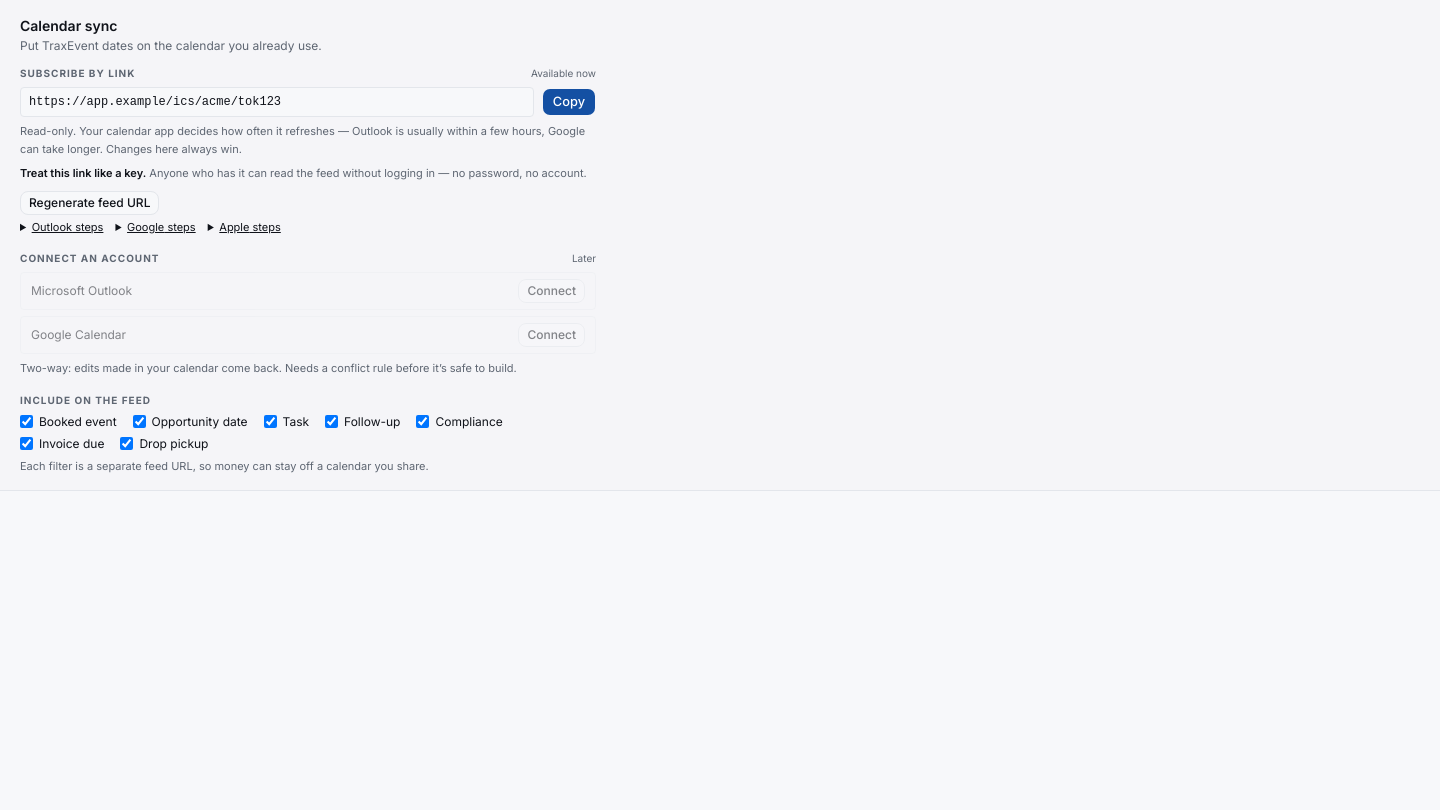
SubscribePanel › regenerate feed URL › confirming rotates the token and shows the URL that now works
Click the button "Regenerate feed URL" at x=90, y=203, box [20,191,159,215]
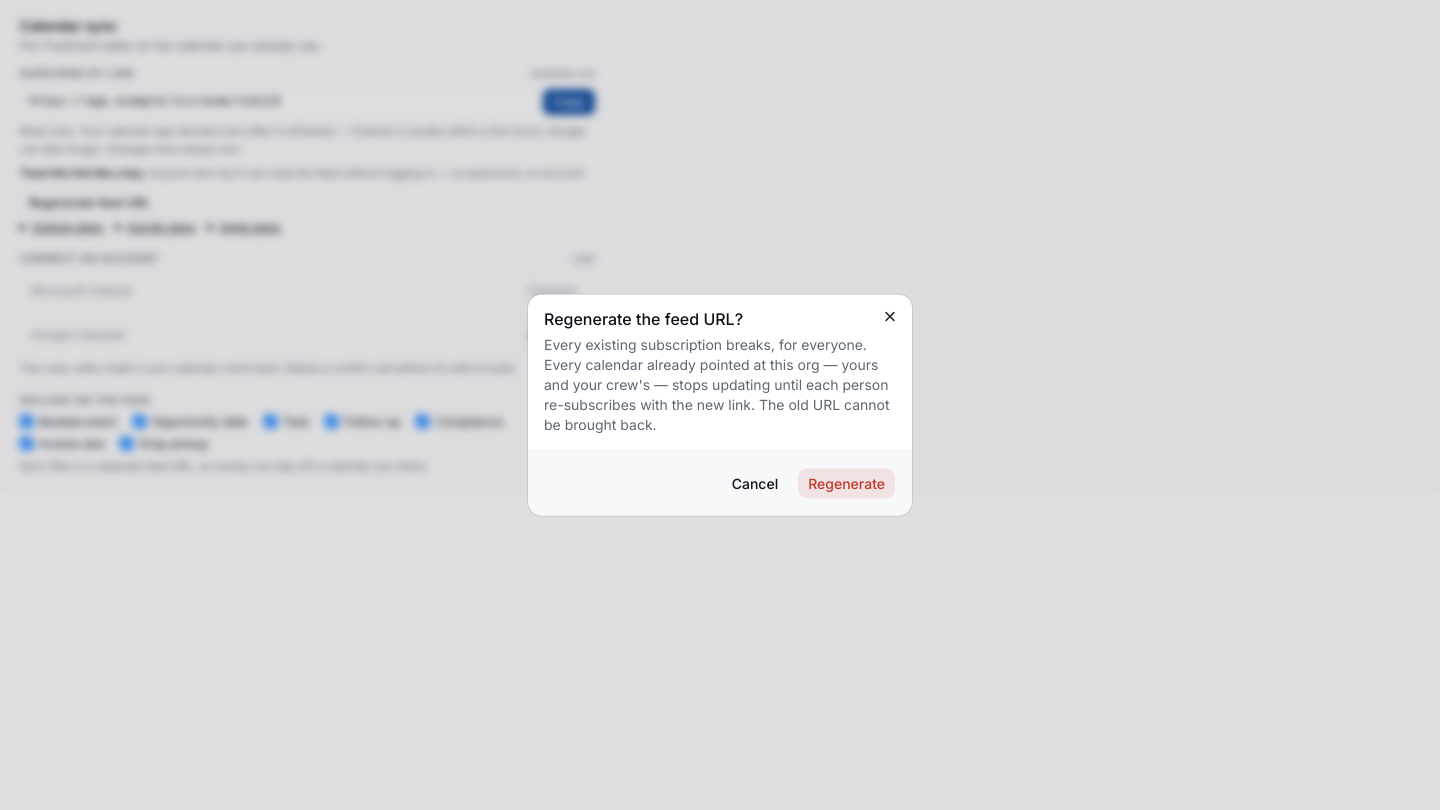
Click the button "Regenerate" at x=847, y=484, box [797,468,896,500]
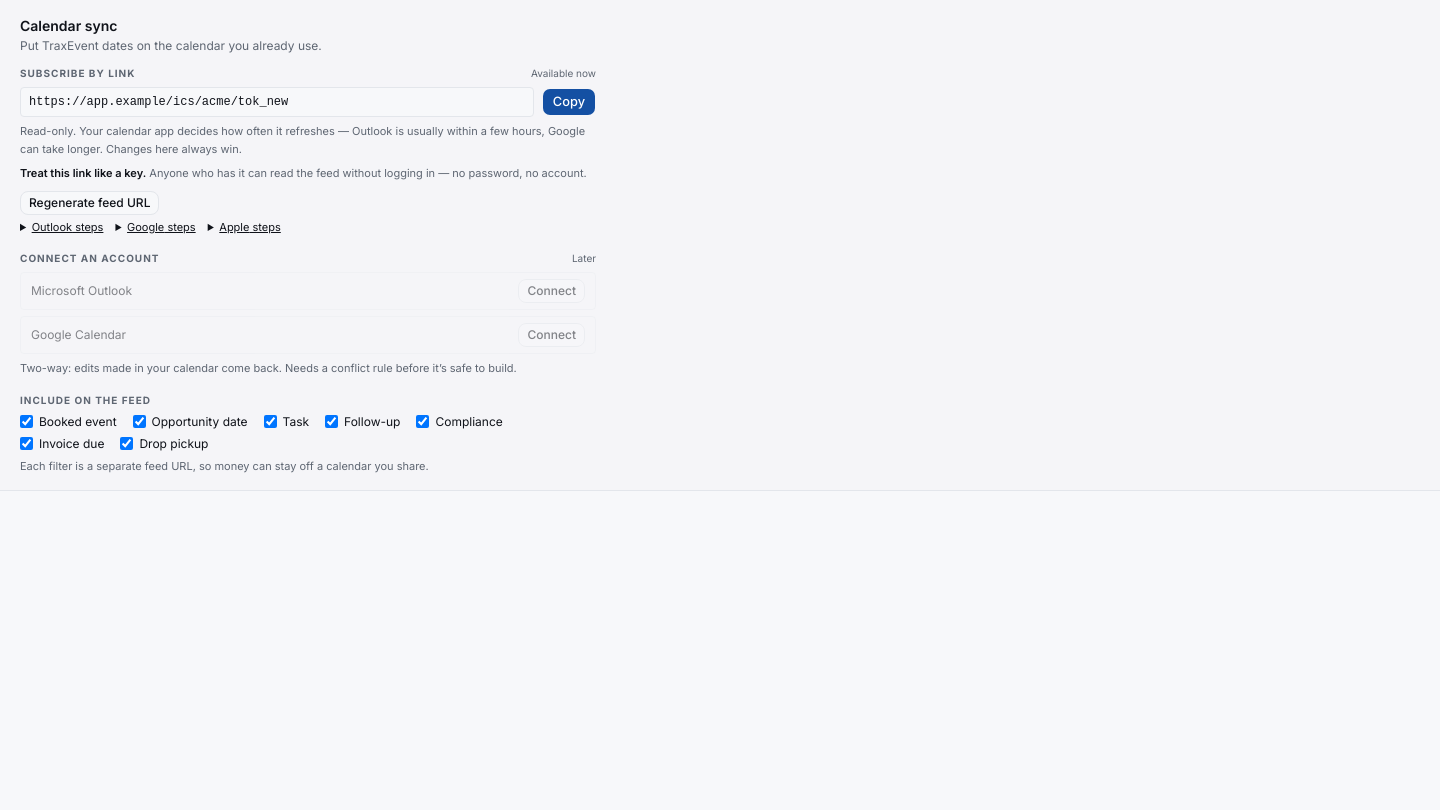
Result: the text "https://app.example/ics/acme/tok_new" is shown at [20,87,534,117]
Result: the text "https://app.example/ics/acme/tok123" is gone
